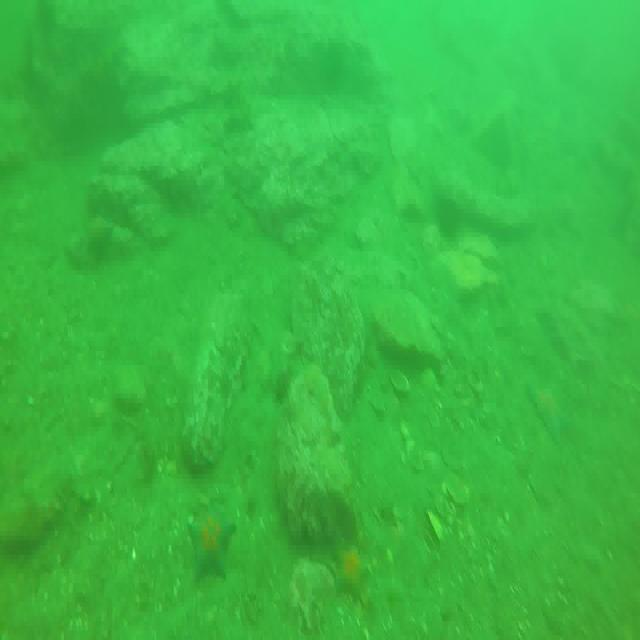starfish: (189, 496, 235, 578), (524, 376, 572, 442), (331, 533, 370, 601)
